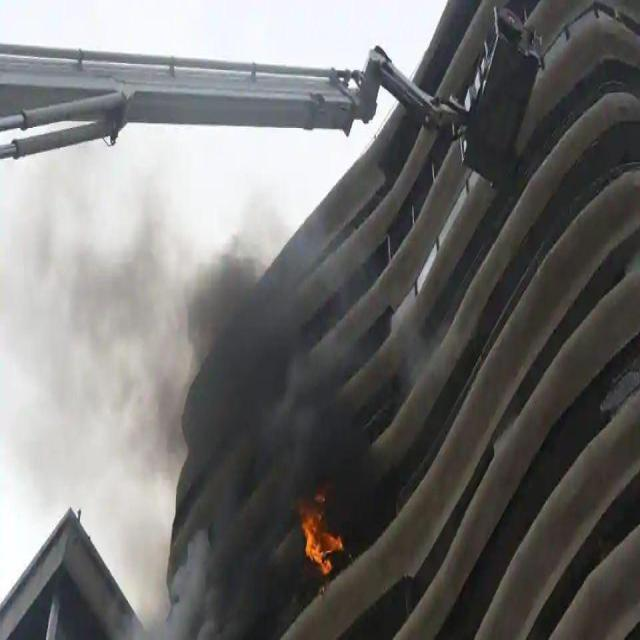Fire: (295, 490, 343, 575)
Smoke: (80, 219, 187, 473), (186, 231, 290, 393), (258, 348, 358, 492), (169, 530, 226, 640), (343, 448, 388, 548), (241, 556, 291, 640), (400, 322, 445, 383)
